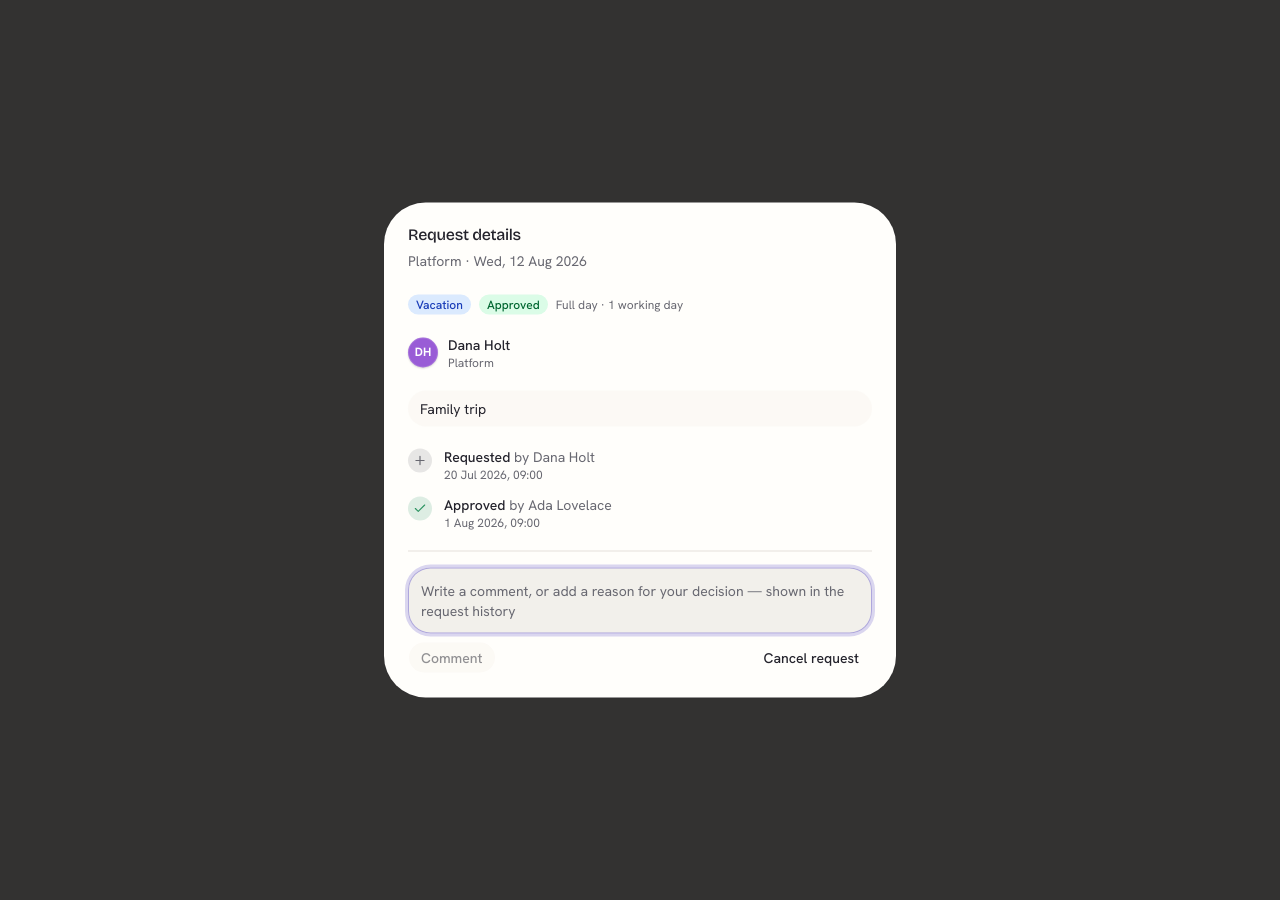
Test case: VacationDetailDialog › translates the conflict when someone else cancelled the request first
The image size is (1280, 900).
Click the button "Cancel request" at (811, 658), box [751,642,872,674]
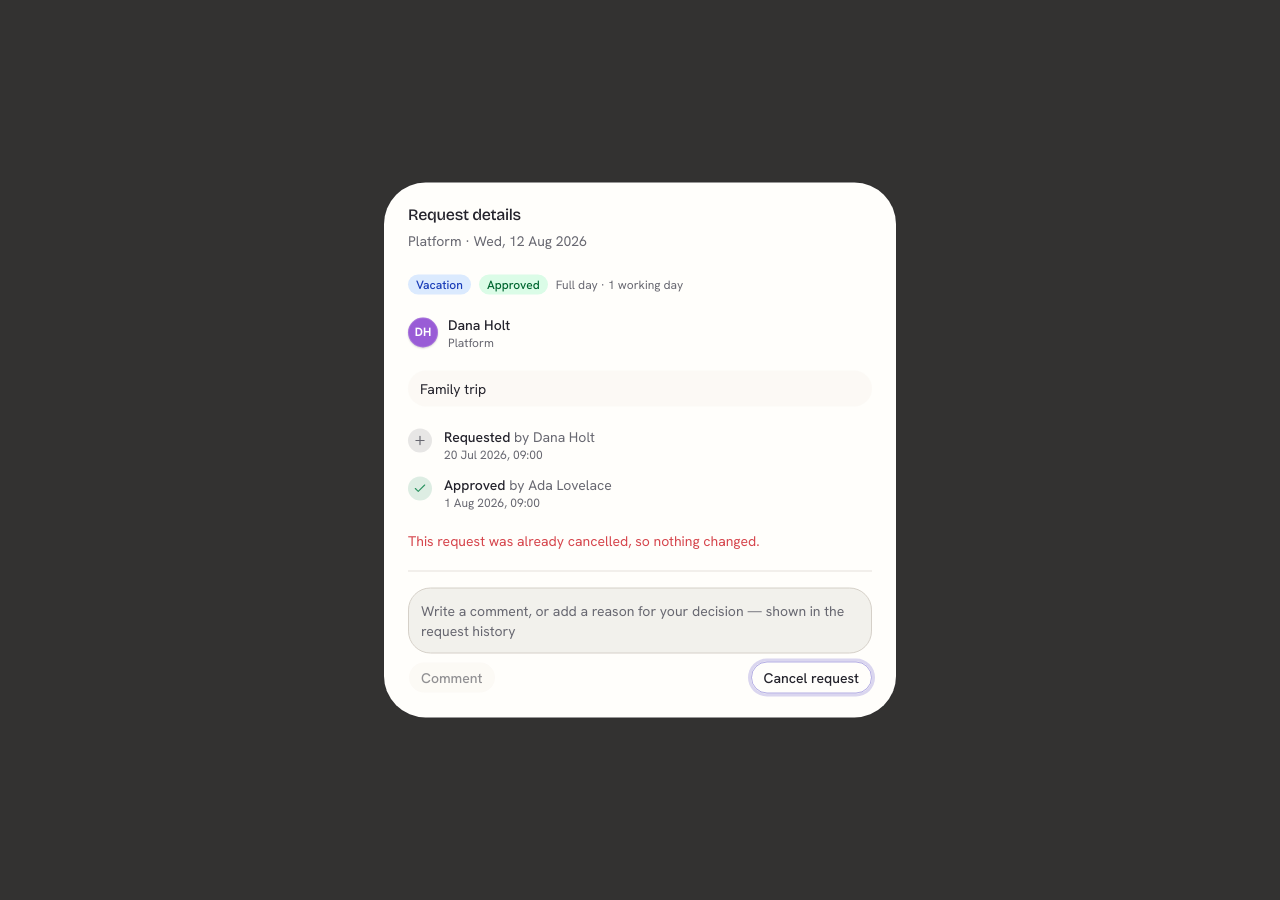
expect the message reads "This request was already cancelled, so nothing changed.": met, box [408,532,760,550]
